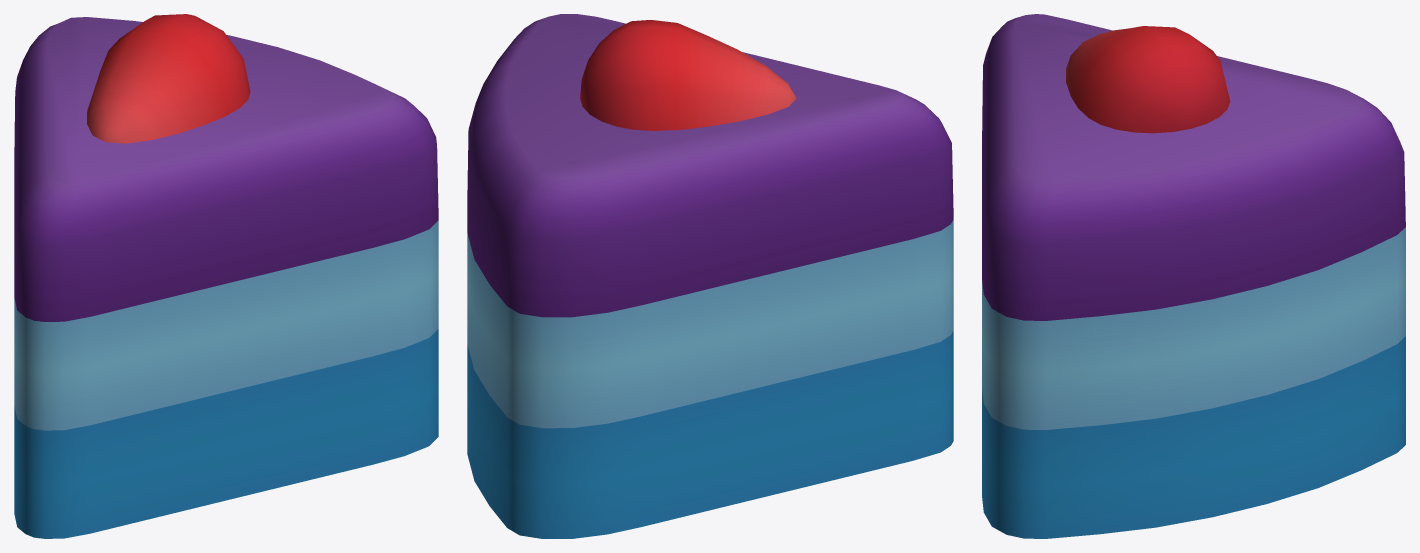
File: cake03_slice.FBX
3 views of the same model, side by side, from view 1: azimuth 30°, elevation 25°; view 2: azimuth 150°, elevation 25°; view 3: azimuth 270°, elevation 25° (orthographic). The views are drawn at different scales.
Visible parts, largest first — view 1: cake03_slice; view 2: cake03_slice; view 3: cake03_slice.
Part boxes in pixels (x1,y1,x2,y2): cake03_slice: (14, 14, 438, 538); cake03_slice: (467, 14, 953, 538); cake03_slice: (982, 14, 1405, 538).
Size of the model in its own units: 0.00902 by 0.00841 by 0.00787.
